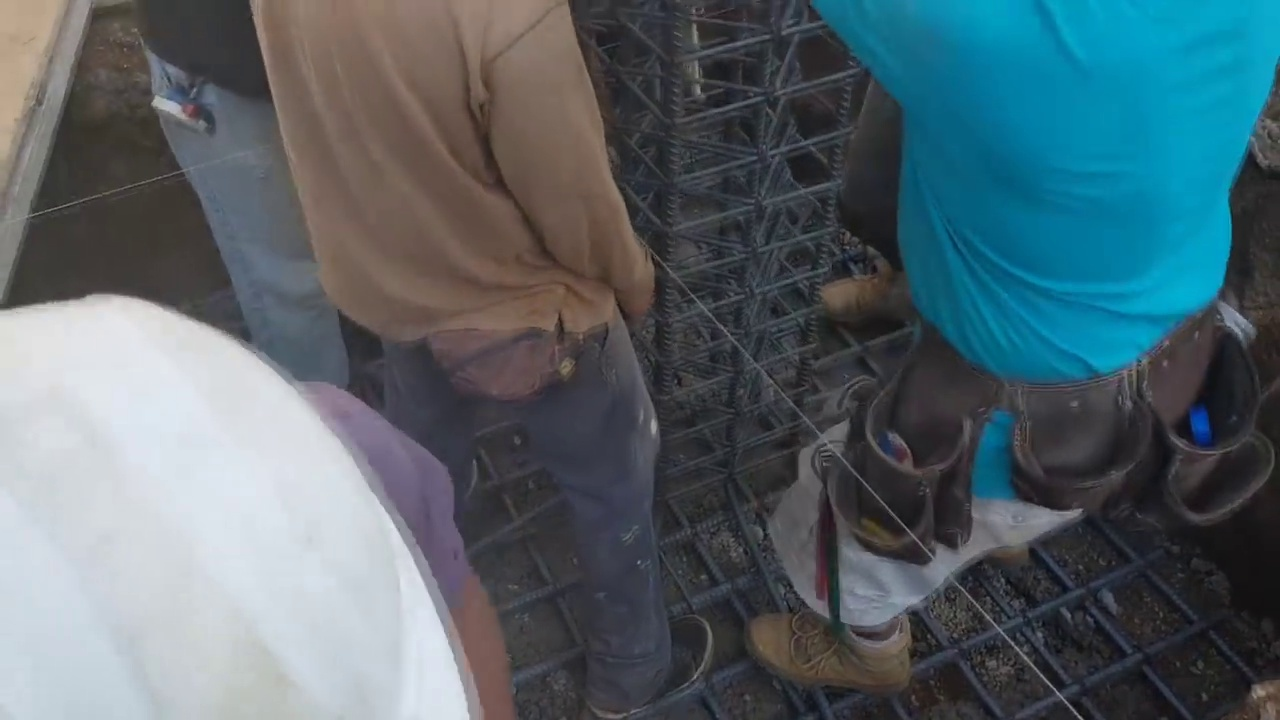person: (746, 2, 1280, 689), (252, 2, 714, 719), (130, 2, 357, 396)
